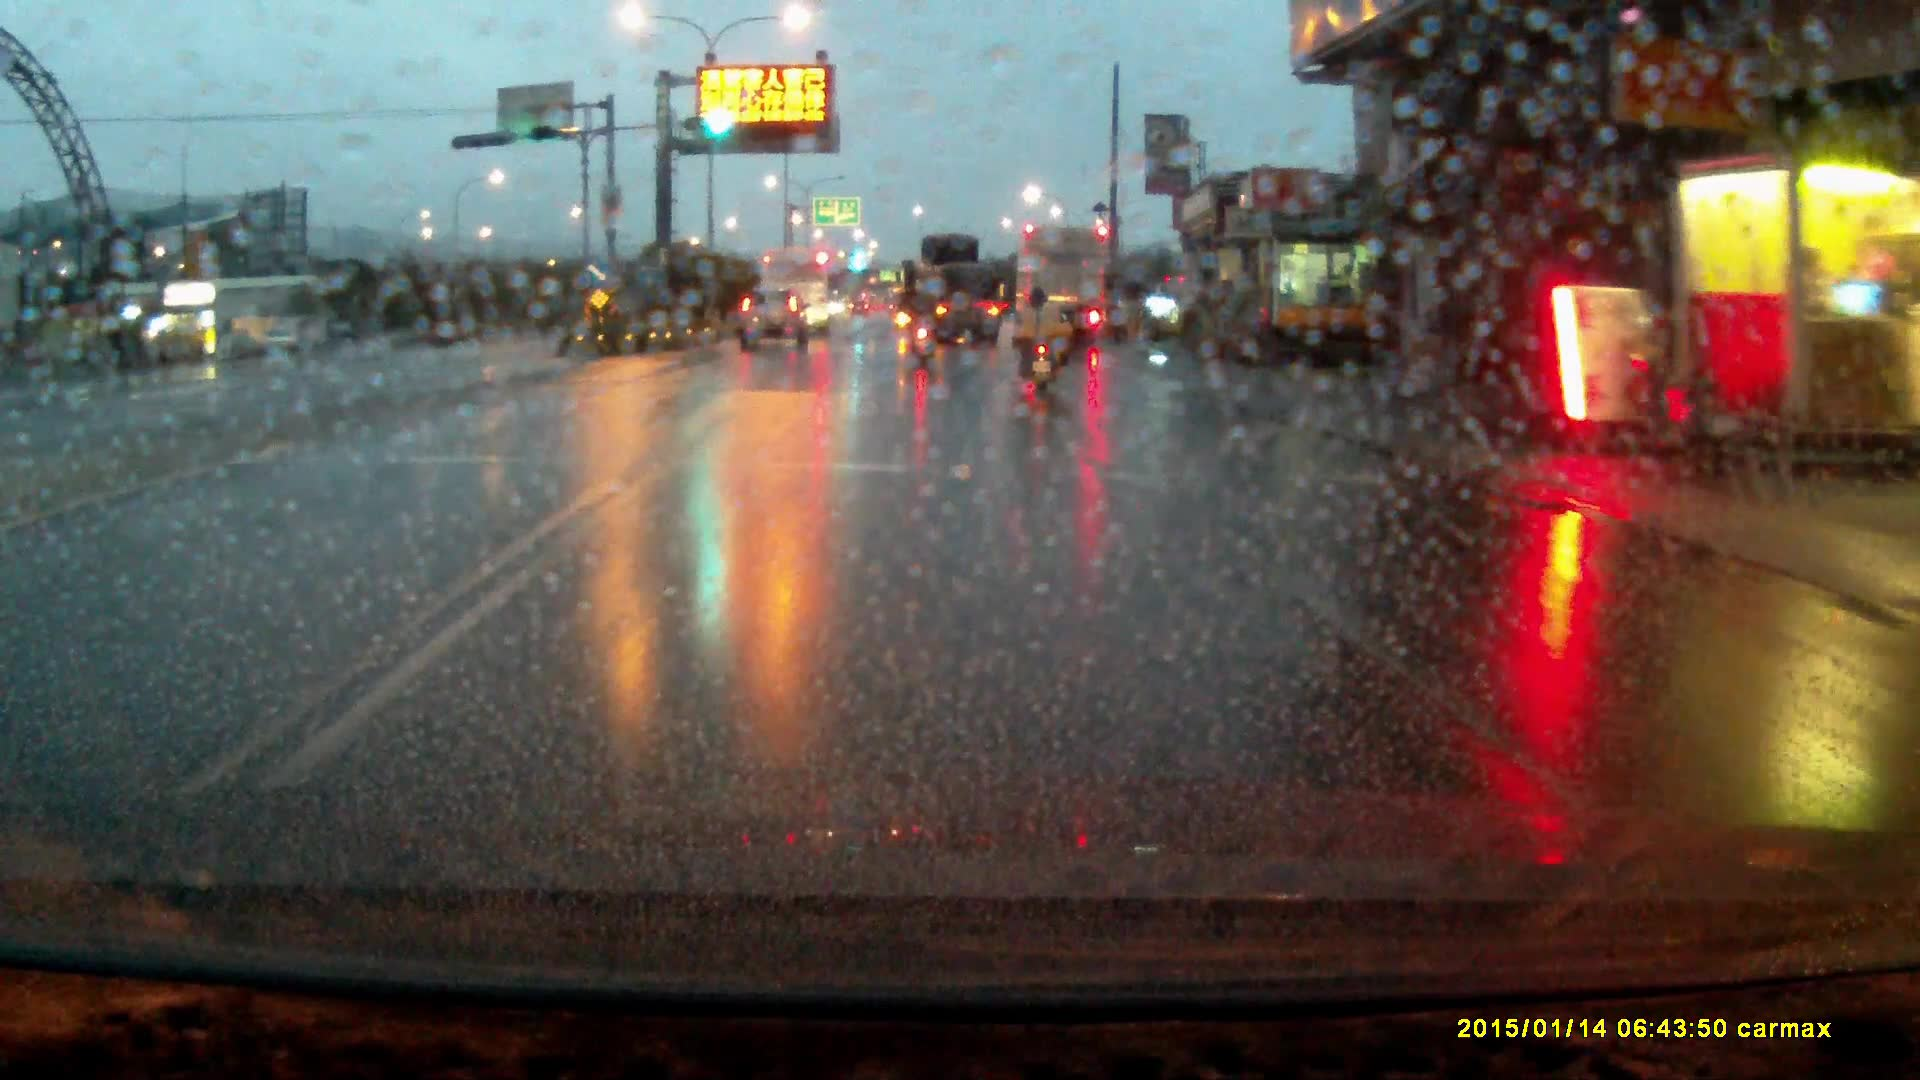rider: (1018, 287, 1066, 402), (903, 281, 940, 367)
vehicle: (1018, 222, 1114, 342), (908, 233, 1002, 347), (759, 246, 832, 336), (739, 287, 811, 352)
